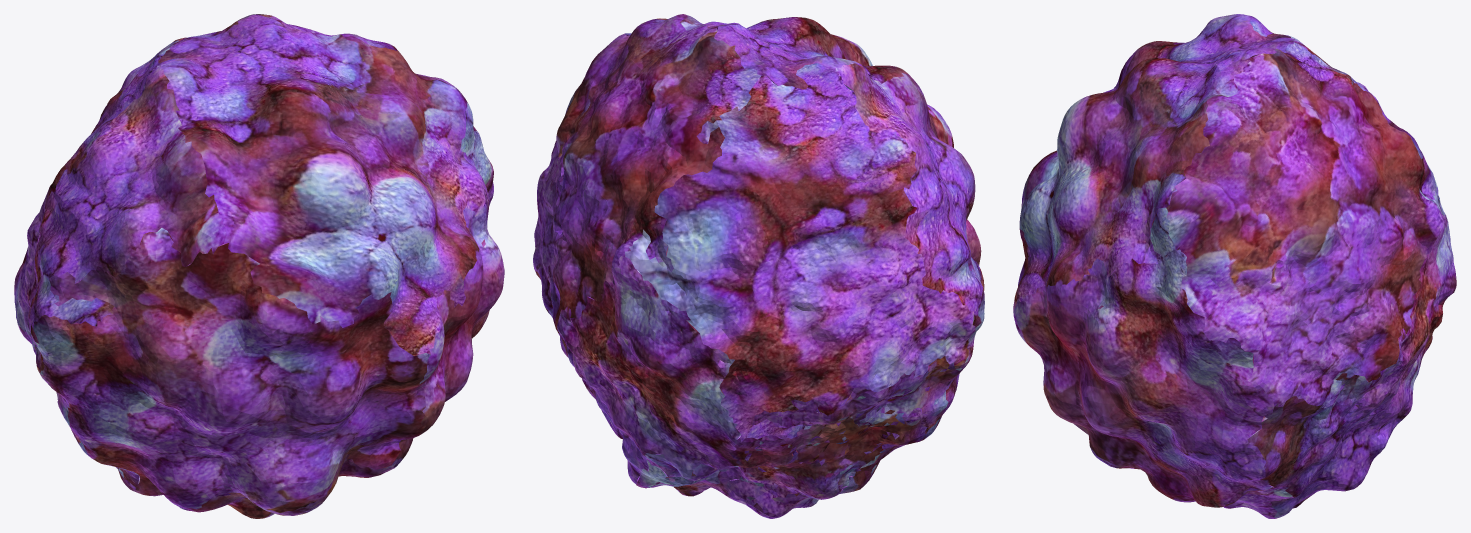
The model's file is Rhinovirus_v03.fbx.
The picture shows the model from 3 angles, left to right: view 1: azimuth 30°, elevation 25°; view 2: azimuth 150°, elevation 25°; view 3: azimuth 270°, elevation 25°; orthographic projection. The views are drawn at different scales.
Visible parts, largest first — view 1: mesh.obj; view 2: mesh.obj; view 3: mesh.obj.
Boxes of the visible parts, bbox=[...] form: mesh.obj: bbox=[14, 14, 504, 518]; mesh.obj: bbox=[533, 14, 984, 518]; mesh.obj: bbox=[1013, 14, 1456, 518].
Bounding box in the file's own units: 90.02 × 91.48 × 80.74.
Materials: 1 (1 with a texture image).
